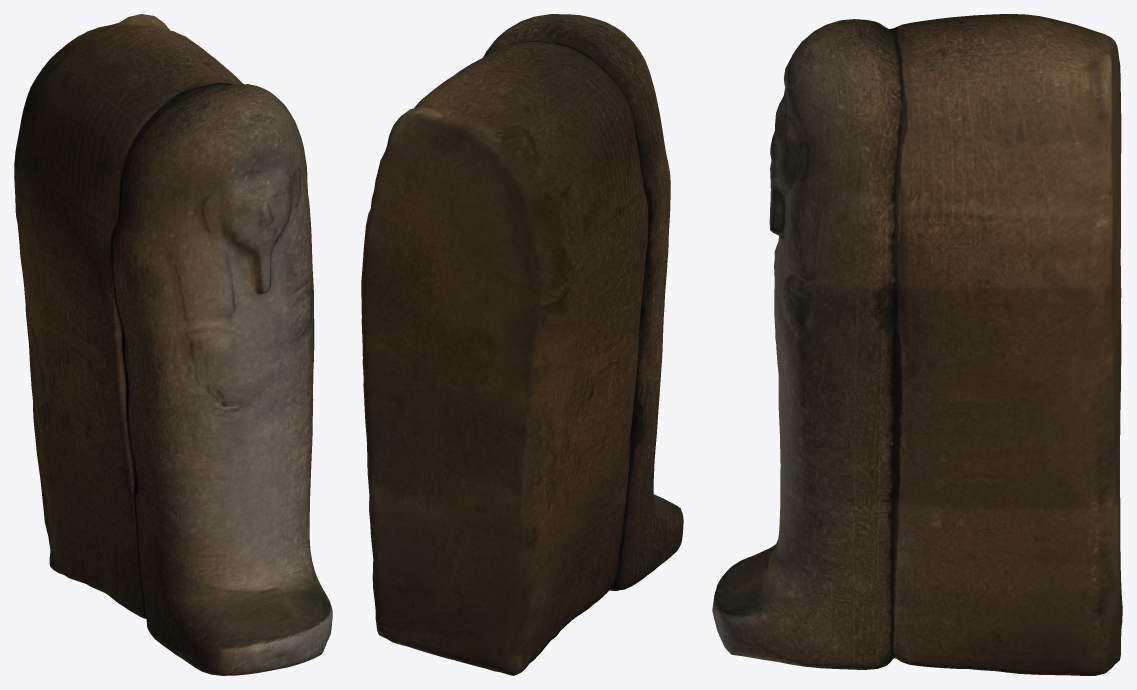
The model's file is sarcophagus.glb.
3 views of the same model, side by side, from view 1: azimuth 30°, elevation 25°; view 2: azimuth 150°, elevation 25°; view 3: azimuth 270°, elevation 25° (orthographic). The views are drawn at different scales.
Parts seen in each view (by area): view 1: Object_2; view 2: Object_2; view 3: Object_2.
Boxes of the visible parts, box(x1,y1,x2,y2) form: Object_2: box(14, 14, 332, 675); Object_2: box(361, 14, 683, 675); Object_2: box(712, 14, 1122, 675).
Size of the model in its own units: 2.26 by 5.92 by 3.59.
Materials: 1 (1 with a texture image).
